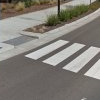crosswalk: (25, 39, 100, 79)
